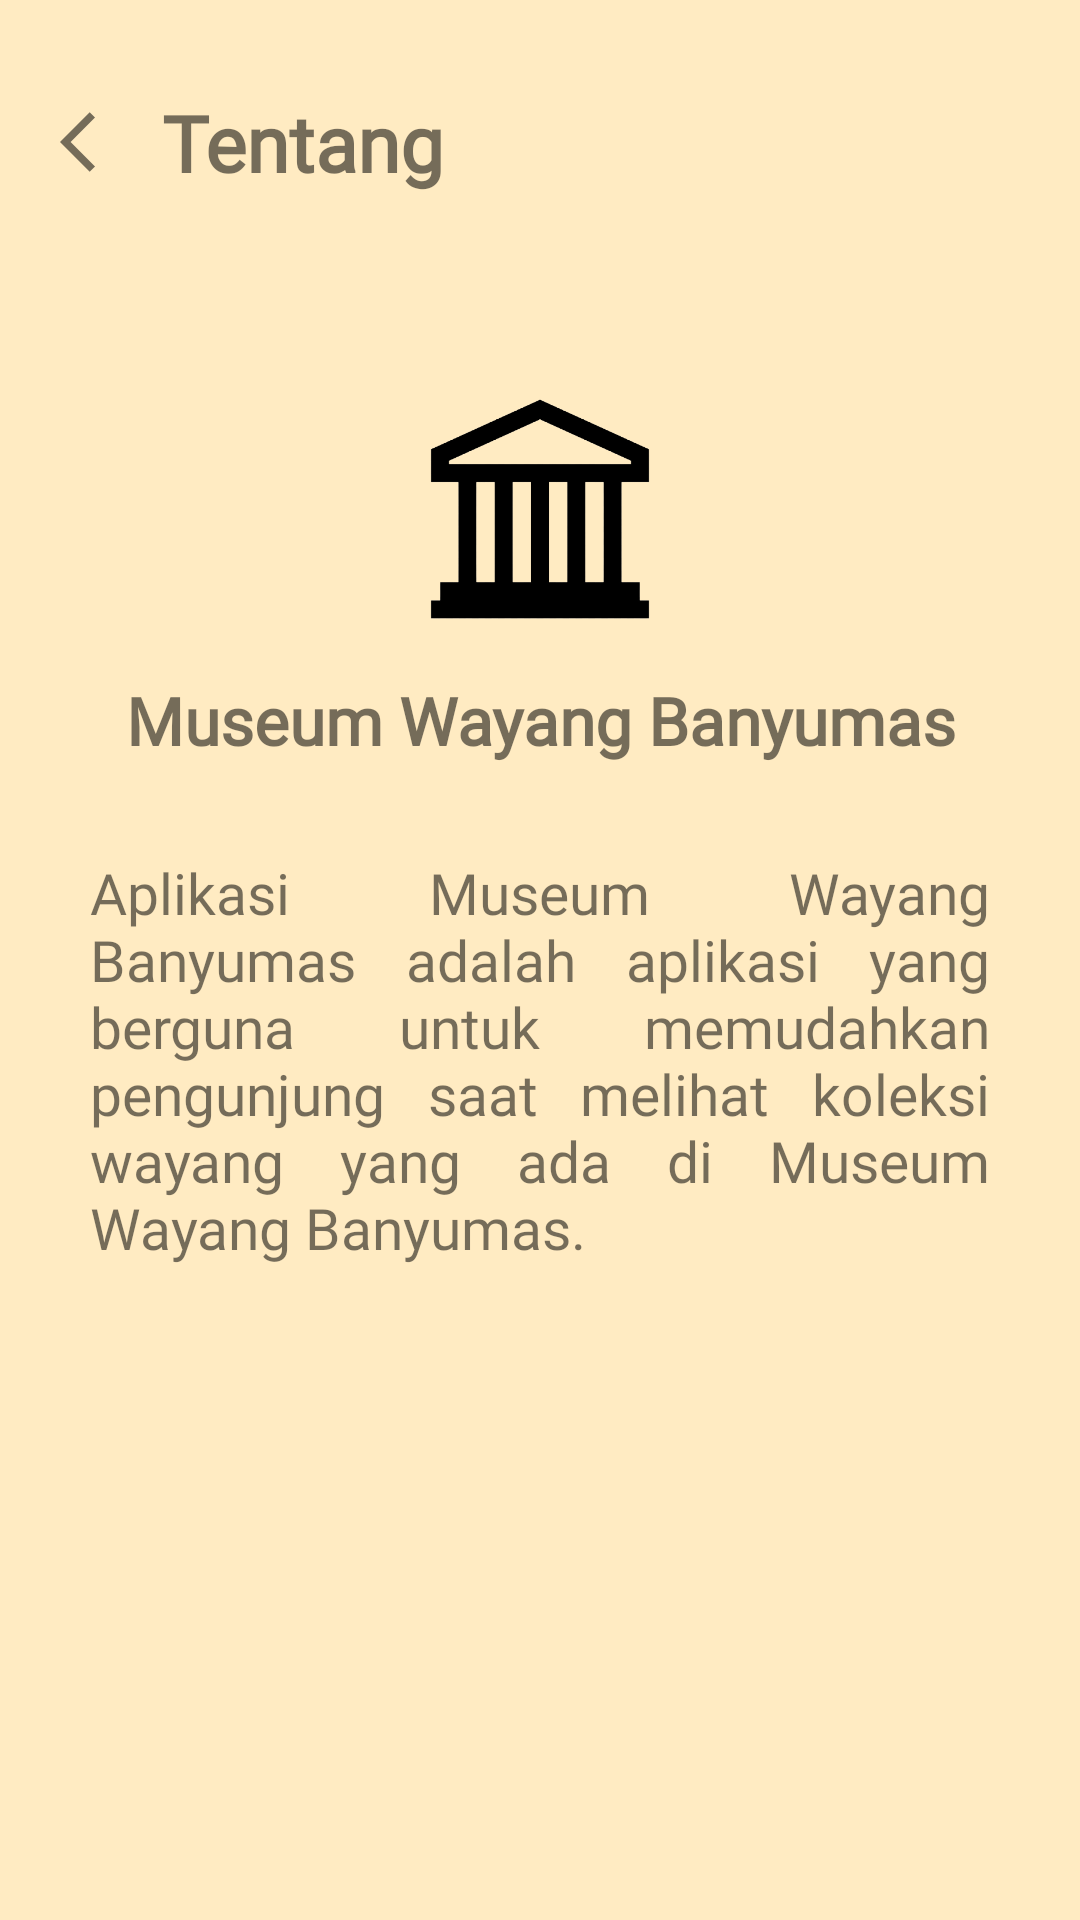

Locate icon controls on the screen. Image size 1080x1920, boxes as (x1, y1, x2, y2).
arrow back: (60, 112, 95, 172)
